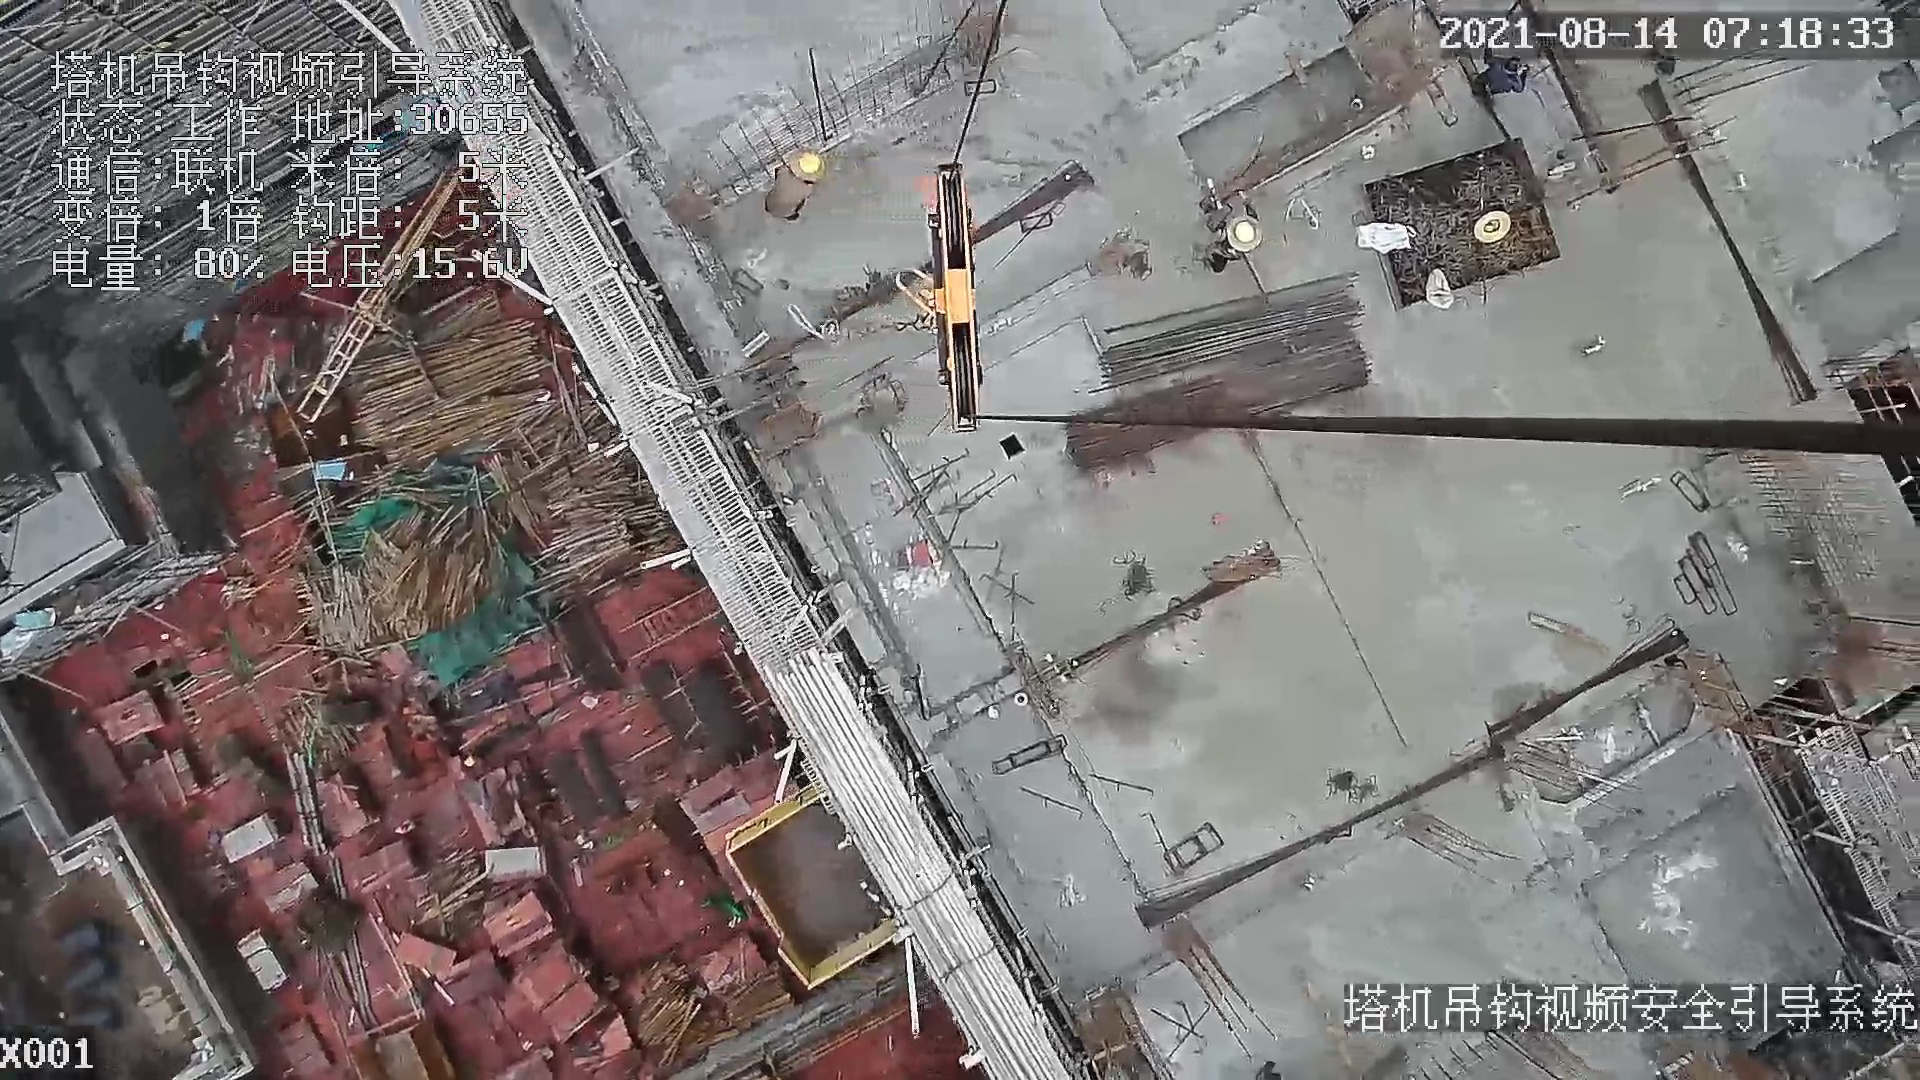helmet: (797, 151, 826, 174), (1233, 219, 1259, 242)
hook: (896, 155, 988, 437)
person: (1447, 53, 1514, 118), (1214, 195, 1263, 269)
